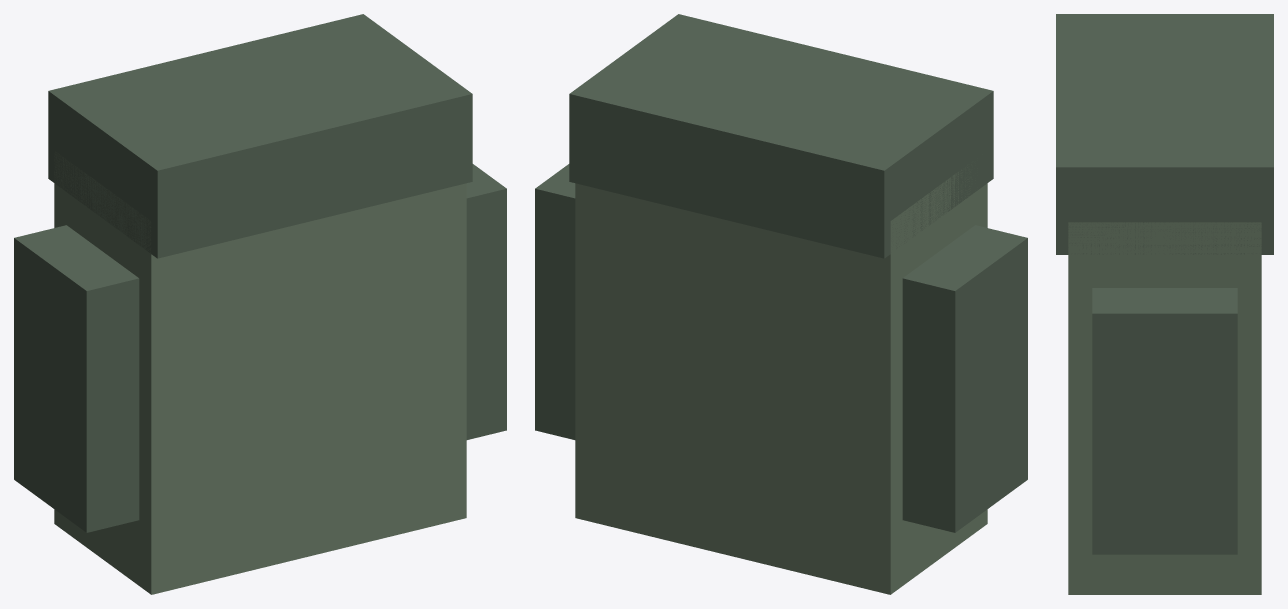
The model's file is backpack.gltf.
3 renders of one model, left to right at view 1: azimuth 30°, elevation 25°; view 2: azimuth 150°, elevation 25°; view 3: azimuth 270°, elevation 25°, orthographic.
Parts seen in each view (by area): view 1: Backpack; view 2: Backpack; view 3: Backpack.
Part boxes in pixels (left/top/right/bottom): Backpack: left=14, top=14, right=506, bottom=594; Backpack: left=535, top=14, right=1027, bottom=594; Backpack: left=1056, top=14, right=1273, bottom=594.
Bounding box in the file's own units: 0.4 × 0.39 × 0.18.
